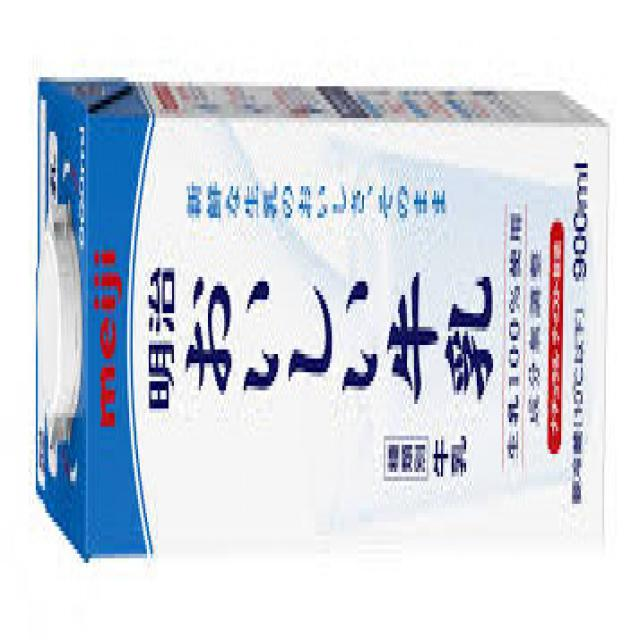non_white_jug: (32, 72, 606, 554)
